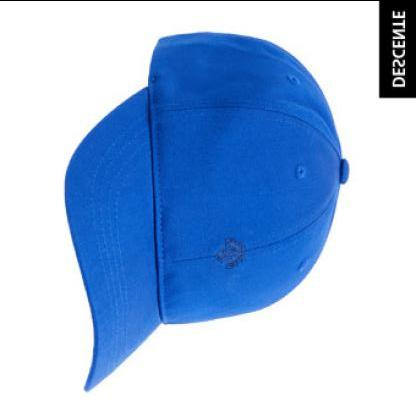cap: (61, 23, 355, 395)
